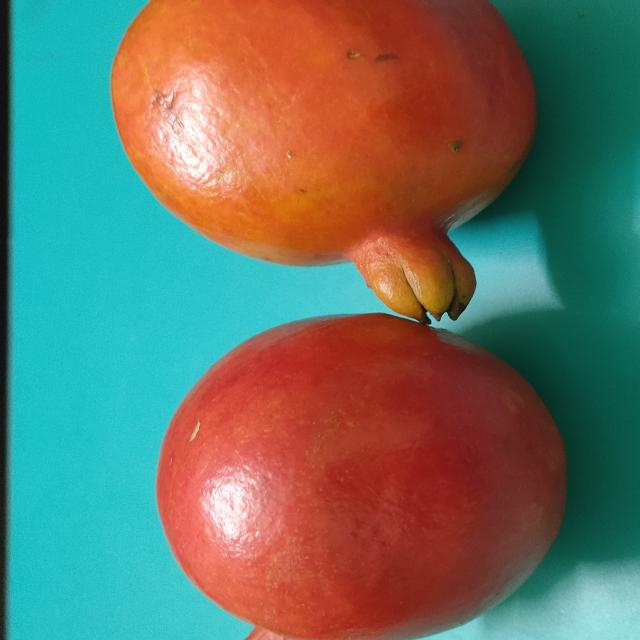Good_Pomegranate-50-60-days: (110, 0, 570, 640)
